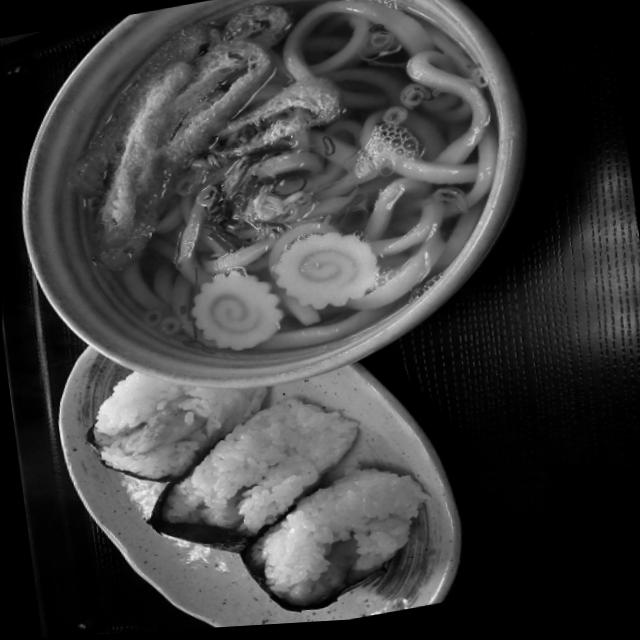面条主食: (3, 0, 549, 415)
